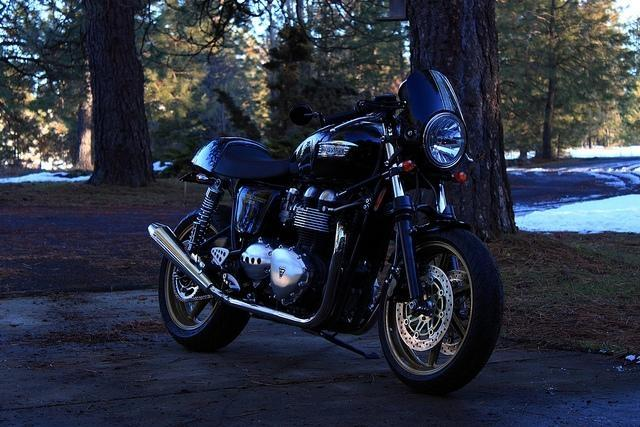motorcycle: (148, 72, 506, 396)
